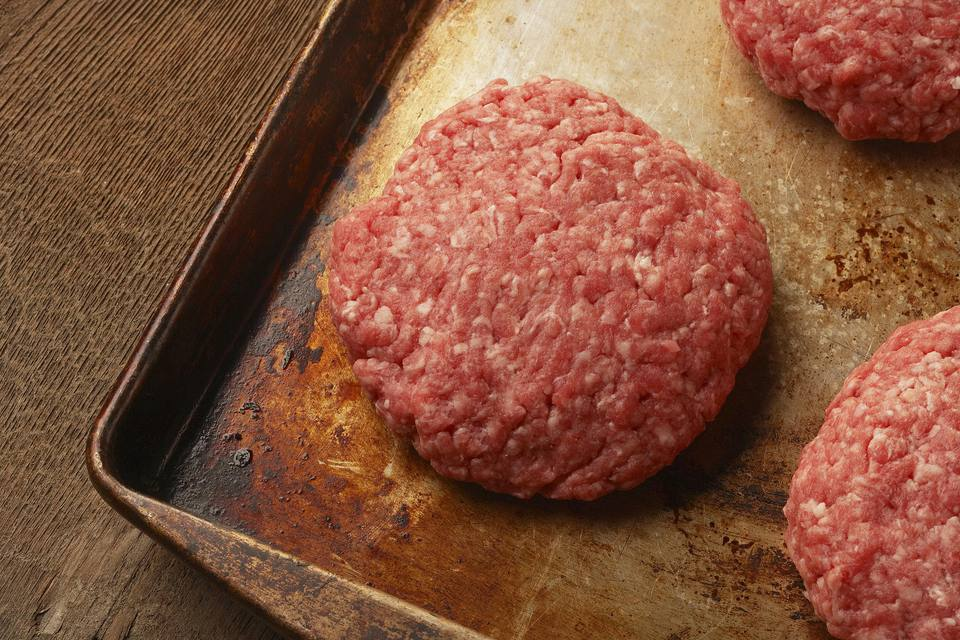ground_beef: (345, 58, 732, 507), (788, 308, 960, 640), (749, 1, 891, 210)
